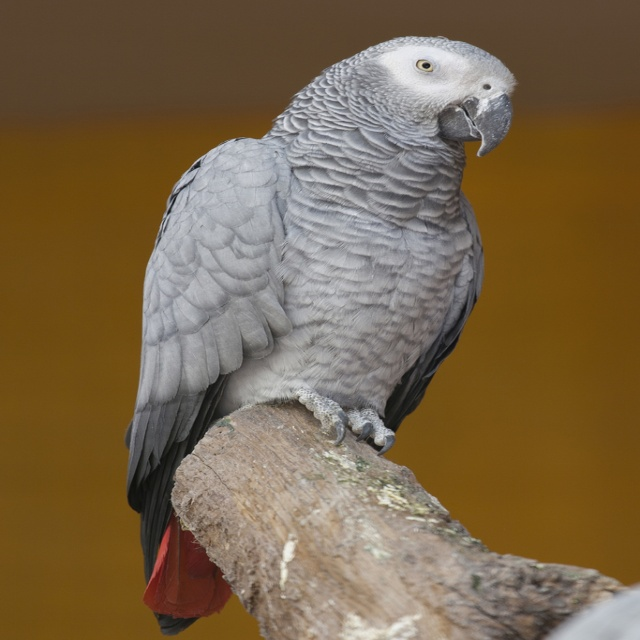Parrot: (123, 35, 518, 638)
